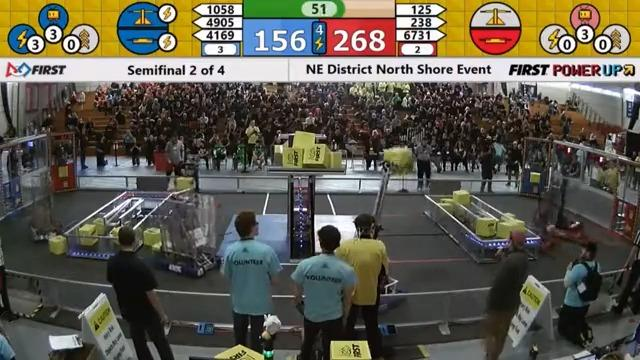robot: (148, 192, 225, 281), (525, 186, 568, 261), (25, 168, 66, 243), (555, 175, 595, 247), (168, 160, 204, 198)
